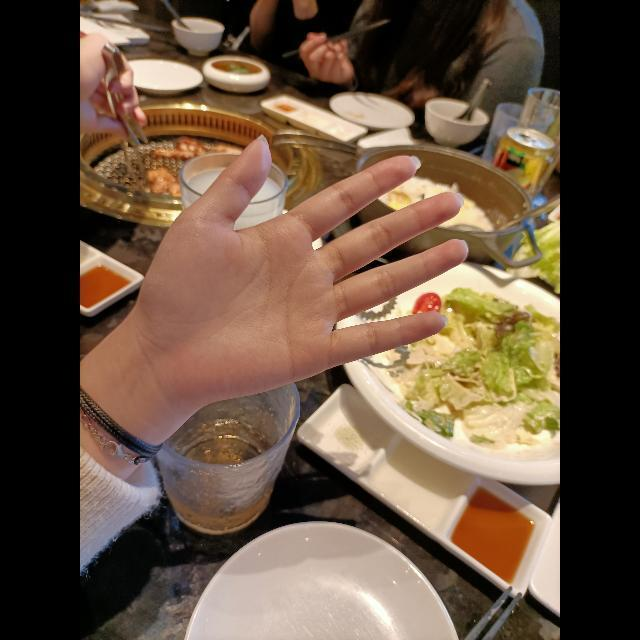bare_hand: (80, 131, 476, 483)
